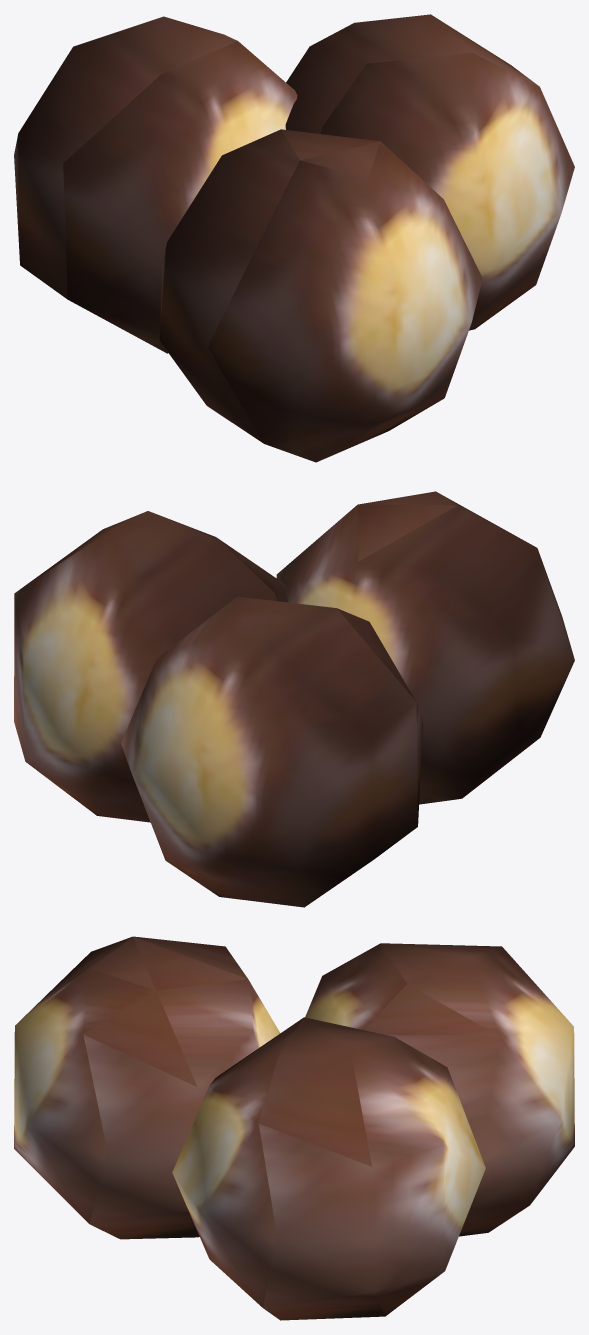
Rendered from WorldItem_Buckeyes.fbx.
3 views of the same model, one above another, from view 1: azimuth 30°, elevation 25°; view 2: azimuth 150°, elevation 25°; view 3: azimuth 270°, elevation 25° (orthographic). The views are drawn at different scales.
Visible parts, largest first — view 1: Buckeyes; view 2: Buckeyes; view 3: Buckeyes.
Part boxes in pixels (x1,y1,x2,y2): Buckeyes: [14, 14, 574, 462]; Buckeyes: [14, 491, 574, 907]; Buckeyes: [14, 936, 574, 1320].
Bounding box in the file's own units: 0.034 × 0.0211 × 0.0386.
